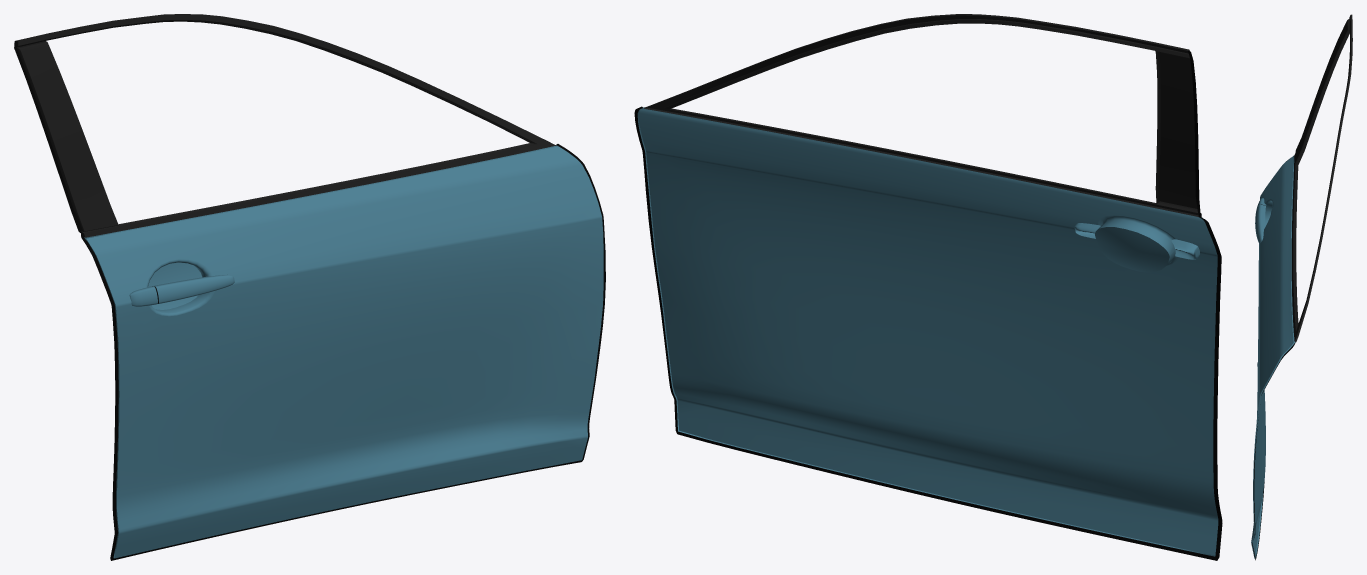
3 renders of one model, left to right at view 1: azimuth 30°, elevation 25°; view 2: azimuth 150°, elevation 25°; view 3: azimuth 270°, elevation 25°, orthographic. The views are drawn at different scales.
Visible parts, largest first — view 1: Y175_18_281B_R_Y175_18_281B_R_1_DaS, Y175_18_281B_R_Y175_18_281B_R_2_D, Y175_18_281B_R_3_D_Y175_18_281B_R, Y175_18_281B_R_Y175_18_281B_R_1_DaS_E; view 2: Y175_18_281B_R_Y175_18_281B_R_1_DaS, Y175_18_281B_R_Y175_18_281B_R_2_D, Y175_18_281B_R_3_D_Y175_18_281B_R, Y175_18_281B_R_Y175_18_281B_R_1_DaS_E; view 3: Y175_18_281B_R_Y175_18_281B_R_1_DaS, Y175_18_281B_R_Y175_18_281B_R_2_D, Y175_18_281B_R_Y175_18_281B_R_1_DaS_E, Y175_18_281B_R_3_D_Y175_18_281B_R.
Boxes of the visible parts, left/top/right/bottom form: Y175_18_281B_R_Y175_18_281B_R_1_DaS: left=86, top=146, right=603, bottom=558; Y175_18_281B_R_Y175_18_281B_R_2_D: left=16, top=14, right=555, bottom=237; Y175_18_281B_R_3_D_Y175_18_281B_R: left=14, top=40, right=605, bottom=560; Y175_18_281B_R_Y175_18_281B_R_1_DaS_E: left=84, top=145, right=557, bottom=557; Y175_18_281B_R_Y175_18_281B_R_1_DaS: left=638, top=108, right=1218, bottom=555; Y175_18_281B_R_Y175_18_281B_R_2_D: left=644, top=14, right=1198, bottom=216; Y175_18_281B_R_3_D_Y175_18_281B_R: left=634, top=51, right=1222, bottom=560; Y175_18_281B_R_Y175_18_281B_R_1_DaS_E: left=637, top=107, right=1215, bottom=556; Y175_18_281B_R_Y175_18_281B_R_1_DaS: left=1251, top=156, right=1293, bottom=554; Y175_18_281B_R_Y175_18_281B_R_2_D: left=1291, top=14, right=1352, bottom=341; Y175_18_281B_R_Y175_18_281B_R_1_DaS_E: left=1251, top=156, right=1295, bottom=558; Y175_18_281B_R_3_D_Y175_18_281B_R: left=1252, top=159, right=1295, bottom=560.
Bounding box in the file's own units: 130 × 117 × 29.36.
